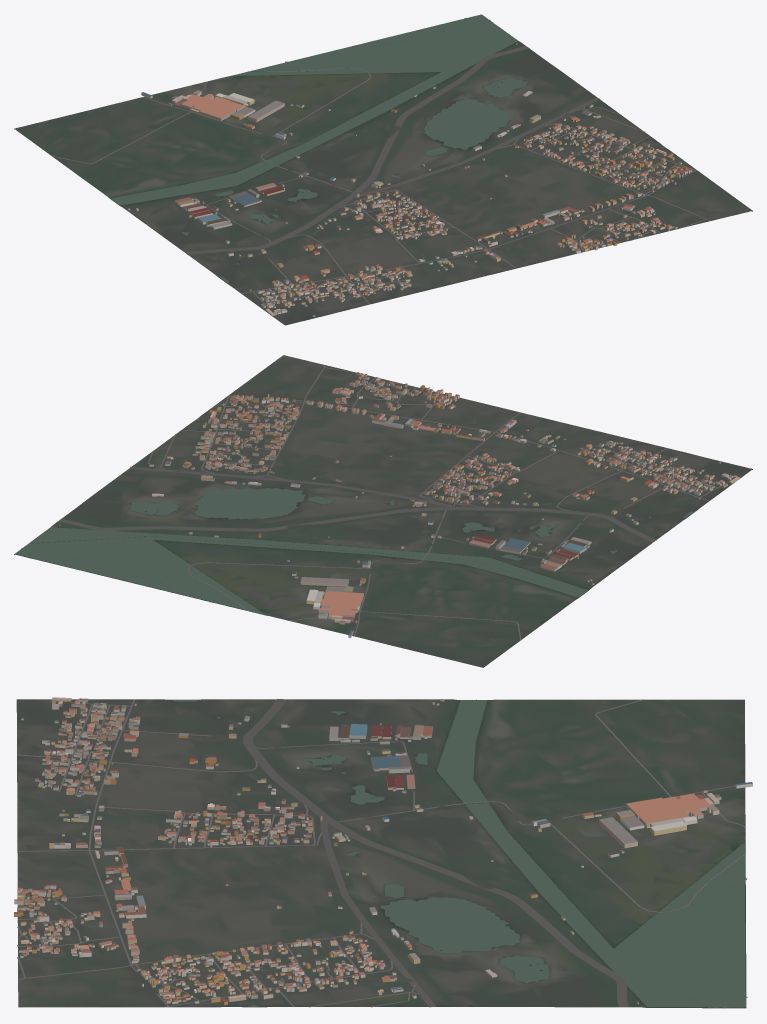
3 views of the same model, one above another, from view 1: azimuth 30°, elevation 25°; view 2: azimuth 150°, elevation 25°; view 3: azimuth 270°, elevation 25° (orthographic). The views are drawn at different scales.
Parts seen in each view (by area): view 1: ground, buildings, water, roads; view 2: ground, buildings, water, roads; view 3: ground, water, buildings, roads.
Part boxes in pixels (bbox=[...]): ground: bbox=[14, 18, 752, 325]; buildings: bbox=[128, 43, 692, 316]; water: bbox=[110, 14, 666, 283]; roads: bbox=[52, 45, 710, 309]; ground: bbox=[14, 355, 752, 667]; buildings: bbox=[59, 372, 739, 638]; water: bbox=[15, 418, 694, 614]; roads: bbox=[58, 365, 728, 640]; ground: bbox=[16, 699, 746, 1008]; water: bbox=[170, 699, 747, 1008]; buildings: bbox=[14, 697, 752, 1005]; roads: bbox=[17, 699, 745, 1007].
Size of the model in its own units: 1408 by 18.3 by 1423.
